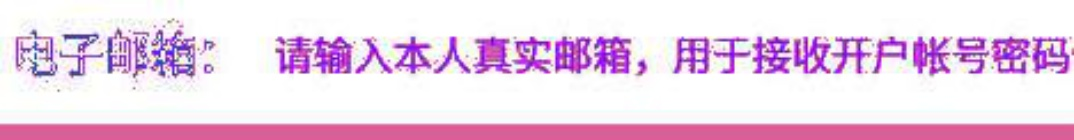EditText: (1, 1, 1073, 139)
